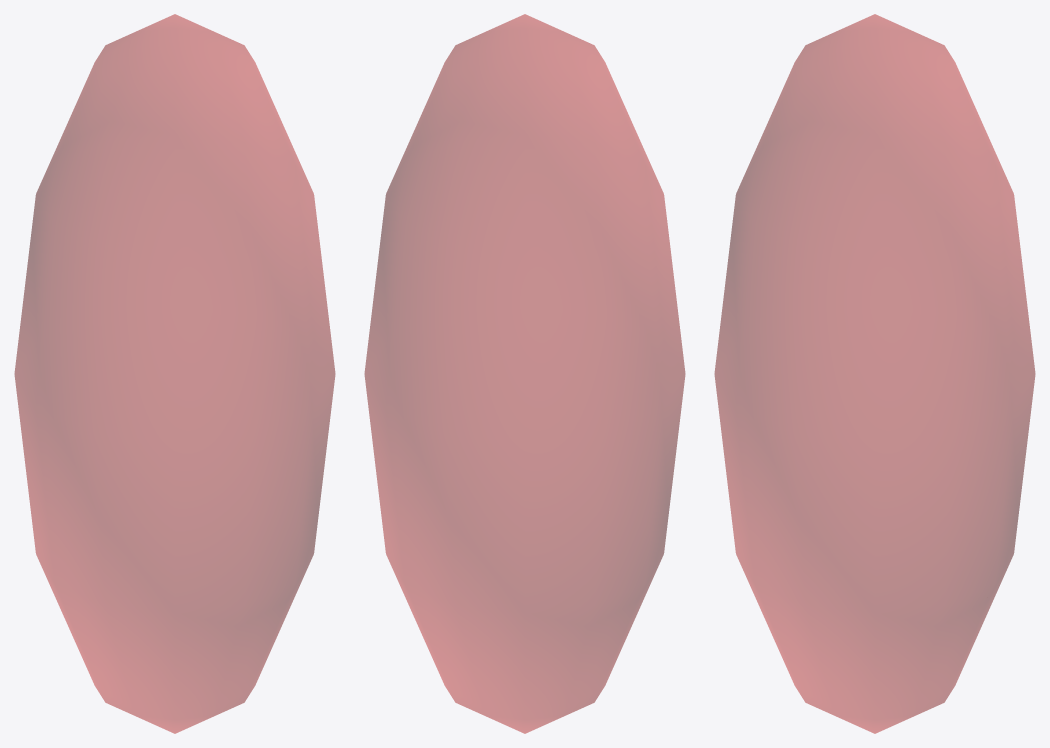
Rendered from hand_dummy.obj.
3 views of the same model, side by side, from view 1: azimuth 30°, elevation 25°; view 2: azimuth 150°, elevation 25°; view 3: azimuth 270°, elevation 25° (orthographic).
Visible parts, largest first — view 1: Sphere013; view 2: Sphere013; view 3: Sphere013.
Part boxes in pixels (<box>): Sphere013: <box>14,14,335,733</box>; Sphere013: <box>364,14,685,733</box>; Sphere013: <box>714,14,1035,733</box>.
Bounding box in the file's own units: 6.01 × 14.86 × 6.01.
